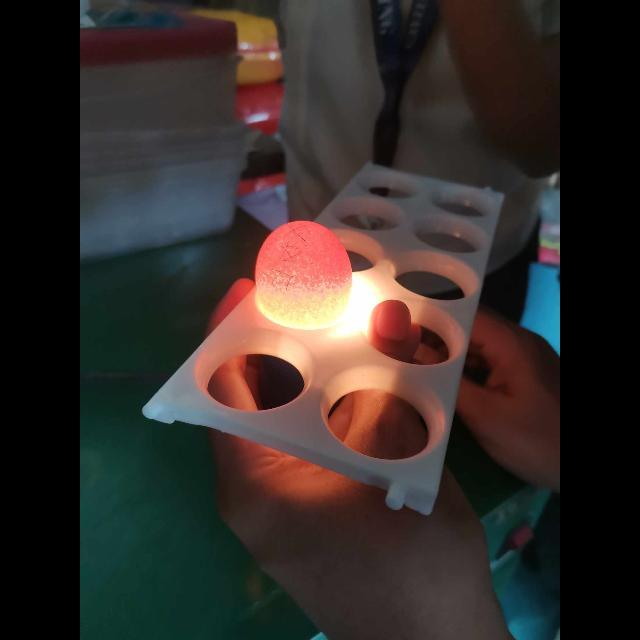Infertile: (254, 220, 350, 326)
